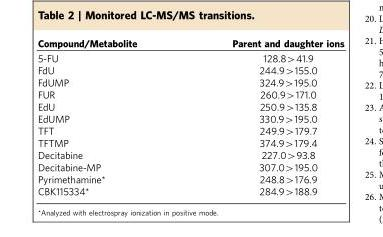table: (36, 37, 343, 197)
table column: (183, 37, 343, 197), (36, 37, 183, 197)
table column header: (36, 37, 343, 50)
table row: (36, 50, 343, 64), (36, 37, 343, 50), (36, 88, 343, 101), (36, 64, 343, 76), (36, 76, 343, 88), (36, 101, 343, 113), (36, 113, 343, 125), (36, 125, 343, 137), (36, 137, 343, 149), (36, 149, 343, 161), (36, 161, 343, 173), (36, 173, 343, 185), (36, 185, 343, 197)
